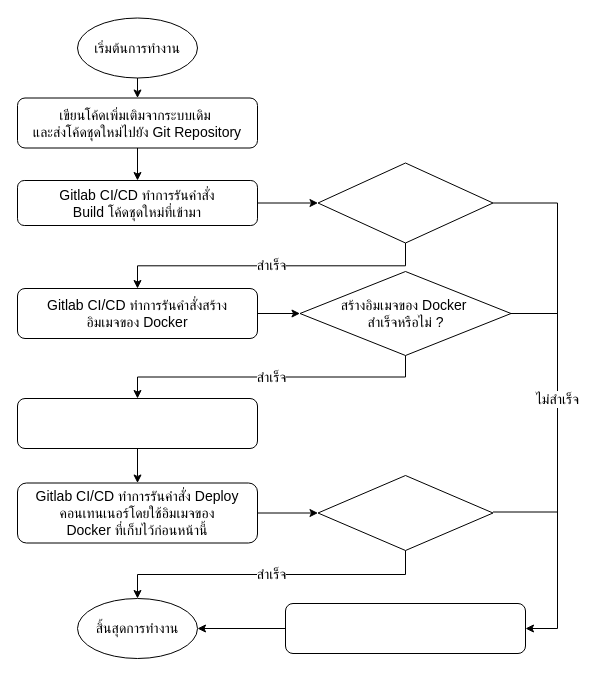
Some shapes in this 596 by 676 pixel diagram are drawn without their labels. Each missing label, with the box of its shape:
Build สำเร็จหรือไม่ ?: (317, 162, 493, 243)
Deploy สำเร็จหรือไม่ ?: (317, 474, 493, 550)
นำอิมเมจของ Docker ไปจัดเก็บที่ Image Registry: (16, 398, 258, 448)
แจ้งเตือนข้อผิดพลาดที่เกิดขึ้น: (284, 602, 526, 654)
